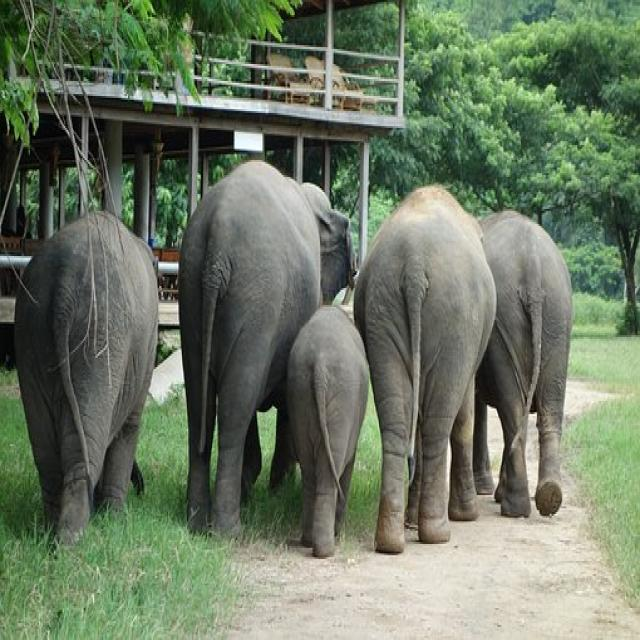Elephant: (178, 138, 354, 538), (349, 152, 501, 590), (4, 183, 159, 561), (467, 164, 597, 550), (267, 306, 368, 572)
